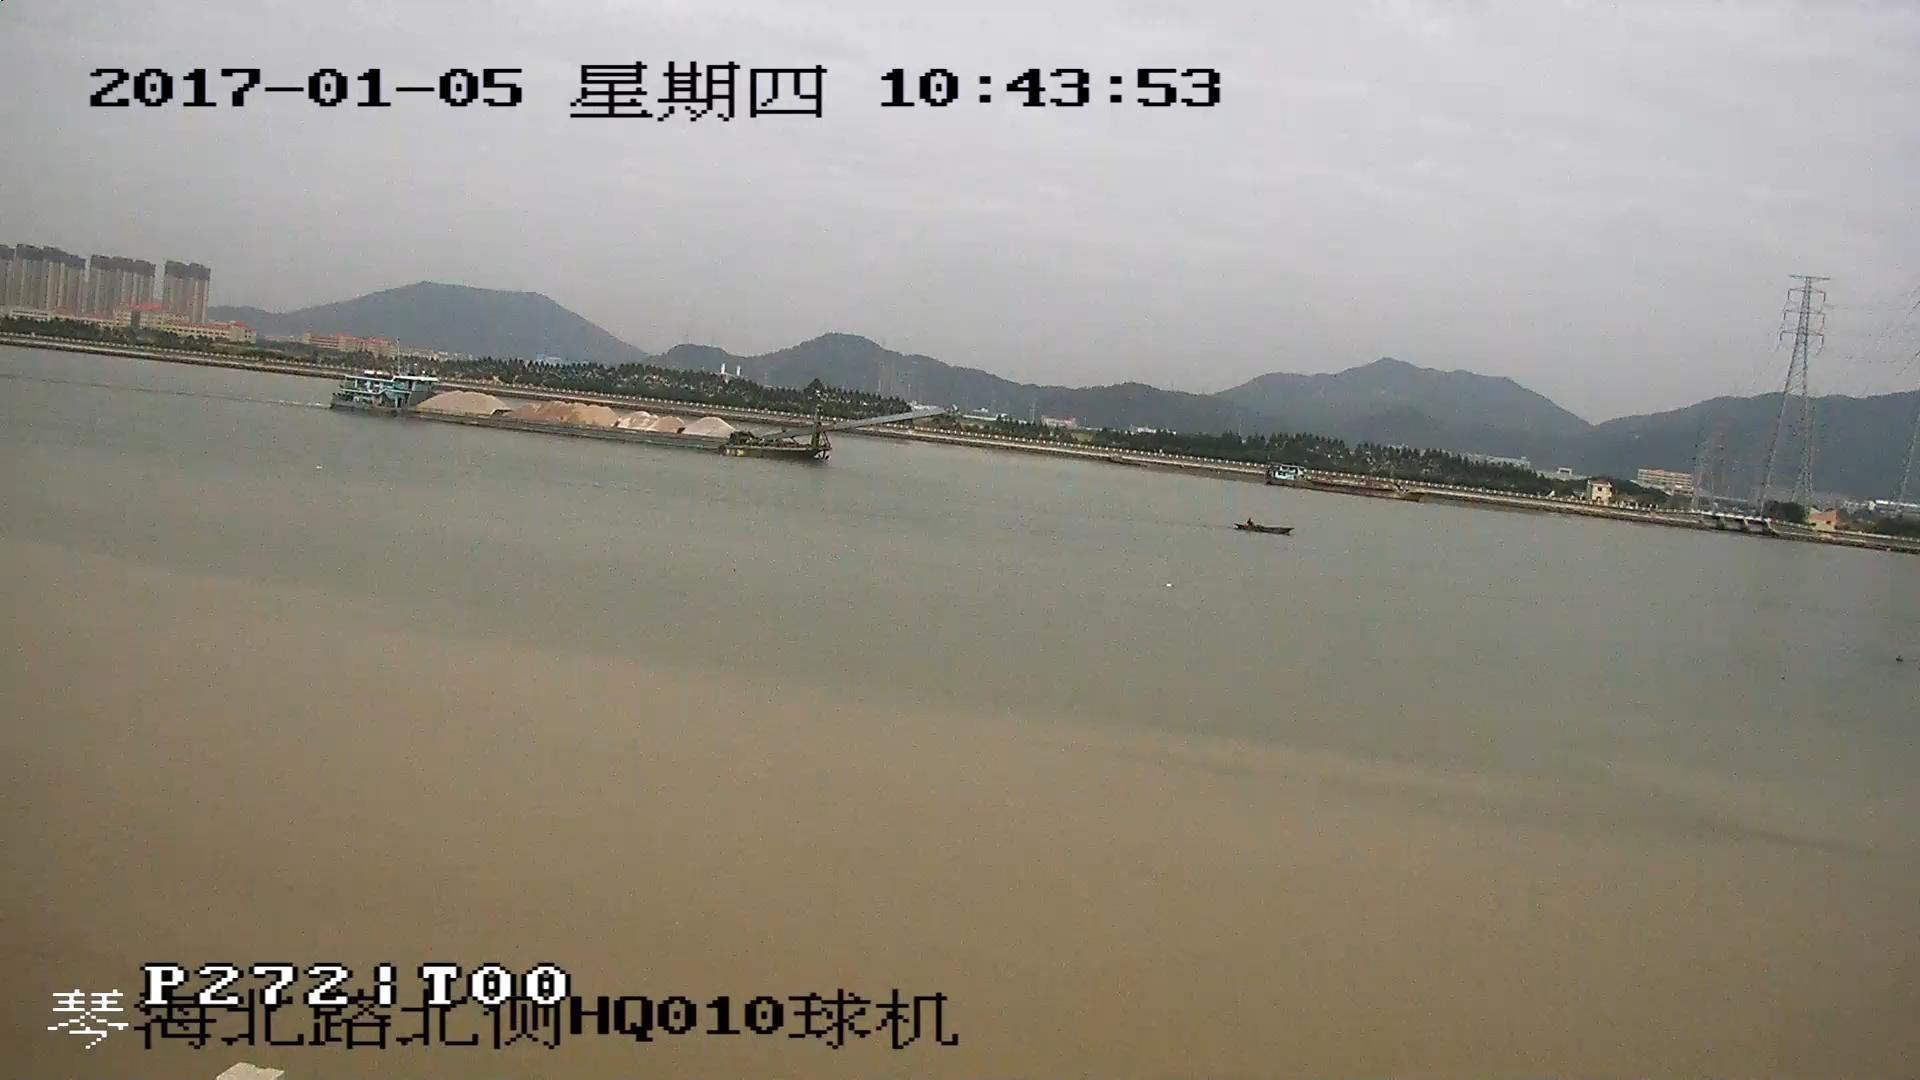Ship: (332, 367, 920, 462), (1236, 520, 1298, 539)
